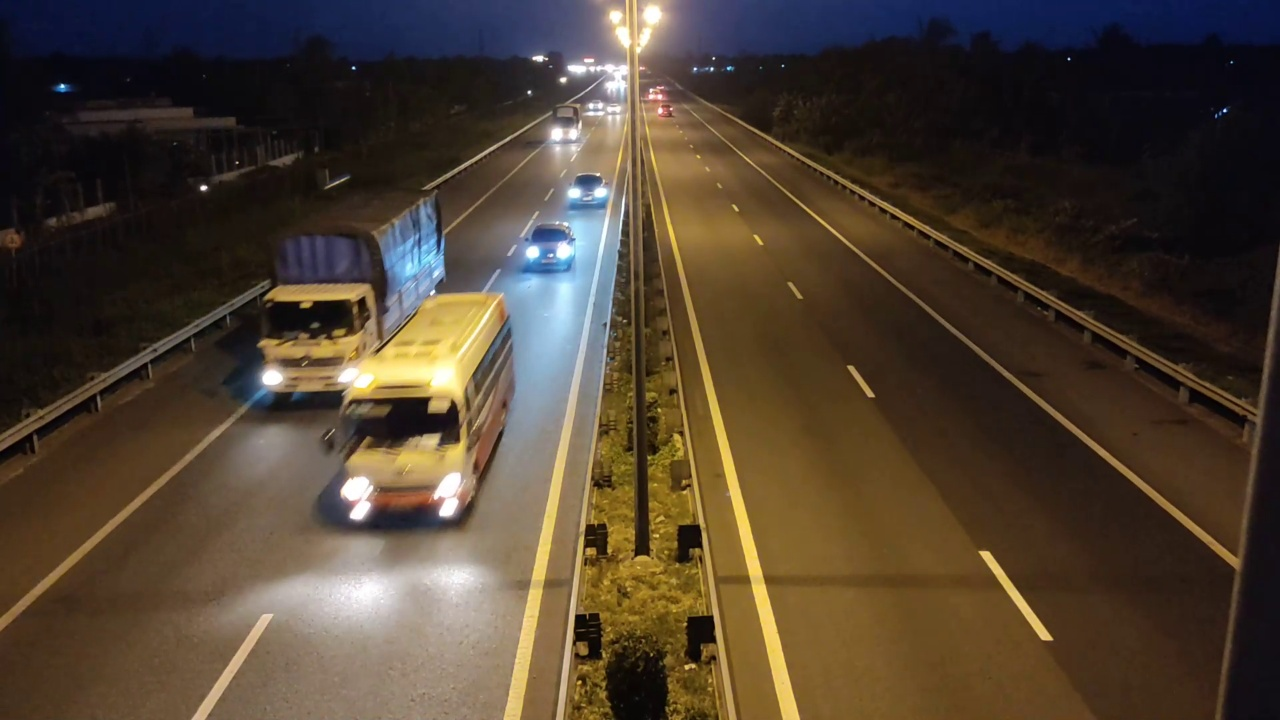bus: (326, 286, 519, 530)
car: (521, 222, 577, 273), (567, 172, 607, 207)
truck: (255, 185, 447, 406)
